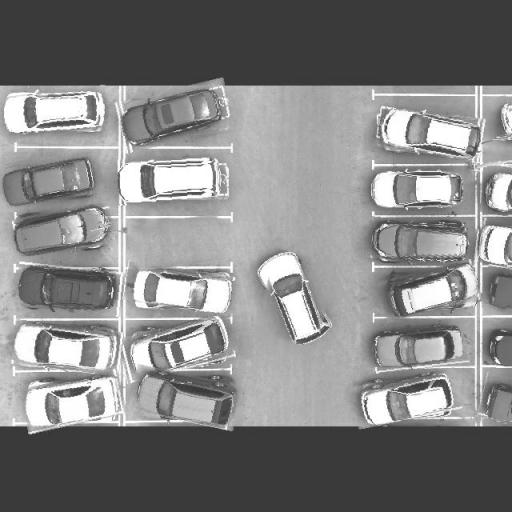busy: (116, 84, 233, 148), (118, 318, 237, 378), (259, 251, 333, 346), (130, 369, 240, 426), (374, 106, 485, 160), (20, 374, 126, 430), (352, 372, 461, 425), (12, 322, 122, 374), (124, 264, 238, 314), (366, 218, 478, 268), (116, 155, 228, 205), (15, 264, 124, 315), (9, 206, 114, 258), (379, 264, 480, 318), (364, 320, 468, 372), (3, 88, 109, 139), (0, 154, 103, 206), (367, 168, 470, 211), (478, 218, 512, 266), (481, 162, 512, 214), (480, 374, 512, 422), (482, 320, 512, 370), (483, 264, 512, 311), (493, 96, 512, 137)
free: (133, 216, 222, 268)
